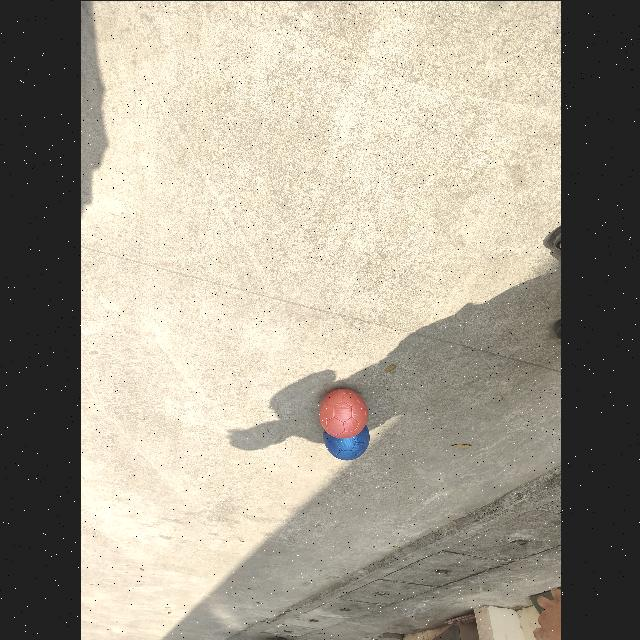B: (322, 425, 369, 460)
R: (318, 388, 368, 438)
